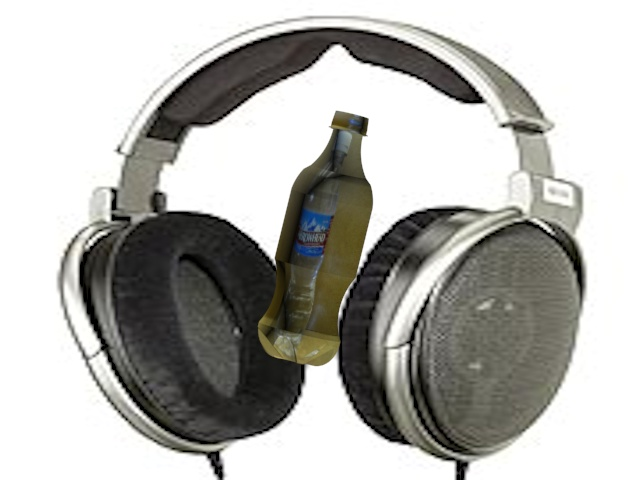bottle: (256, 97, 384, 369)
